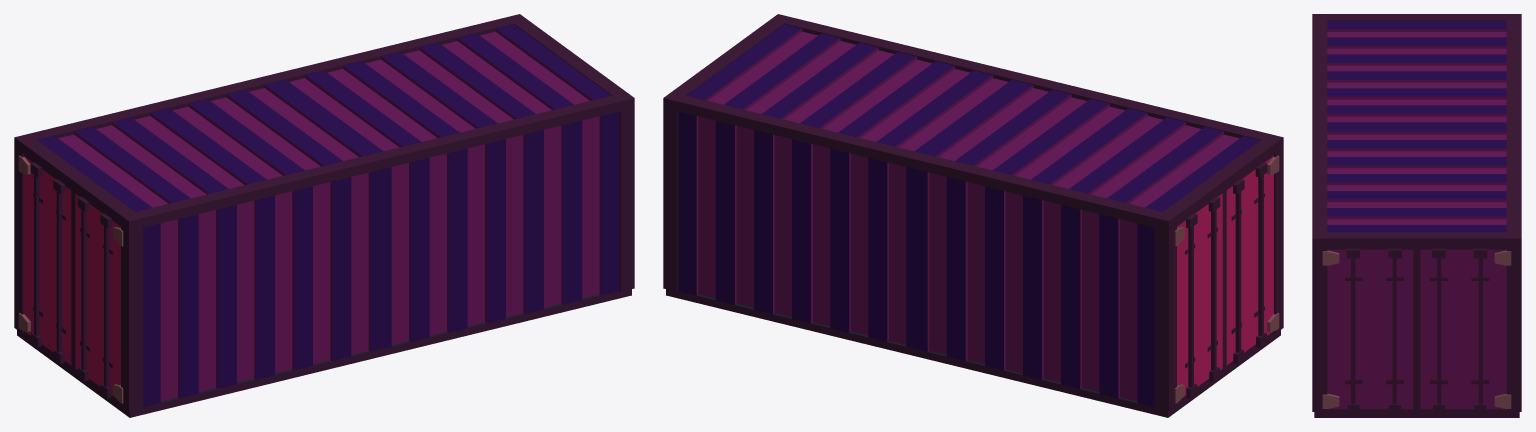
Rendered from Prop_Shippin01.fbx.
The picture shows the model from 3 angles, left to right: view 1: azimuth 30°, elevation 25°; view 2: azimuth 150°, elevation 25°; view 3: azimuth 270°, elevation 25°; orthographic projection. The views are drawn at different scales.
Parts seen in each view (by area): view 1: Cube.878; view 2: Cube.878; view 3: Cube.878.
Boxes of the visible parts, x1,y1,x2,y2 form: Cube.878: [14, 14, 634, 417]; Cube.878: [663, 14, 1283, 417]; Cube.878: [1312, 14, 1521, 417].
Size of the model in its own units: 910 by 337 by 355.
